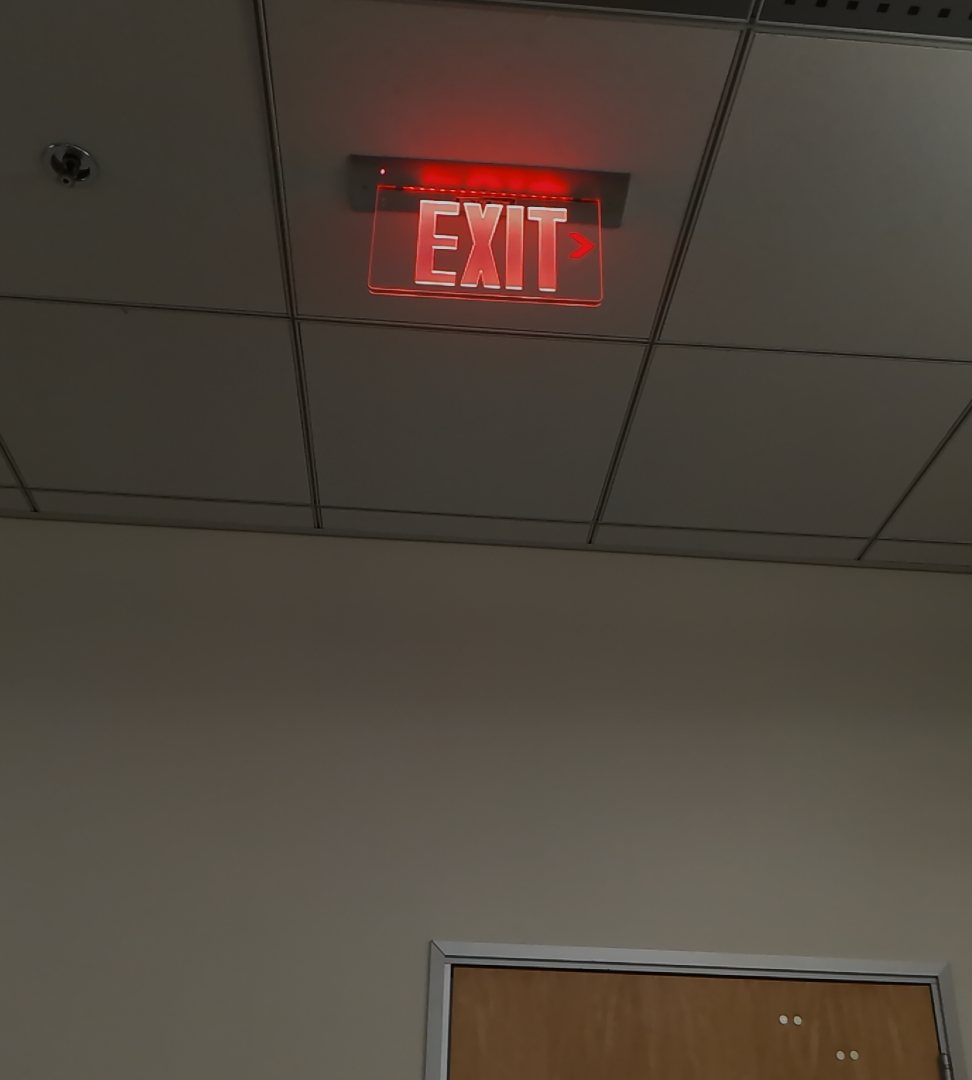emergency_exit: (364, 174, 610, 309)
